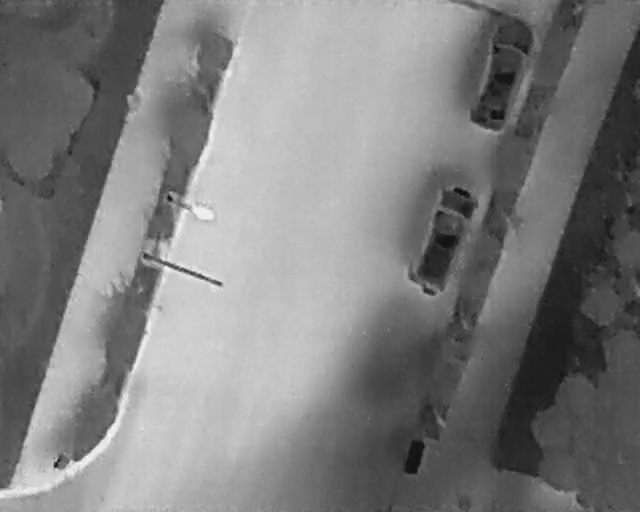Car: (403, 177, 485, 304), (466, 10, 542, 138)
